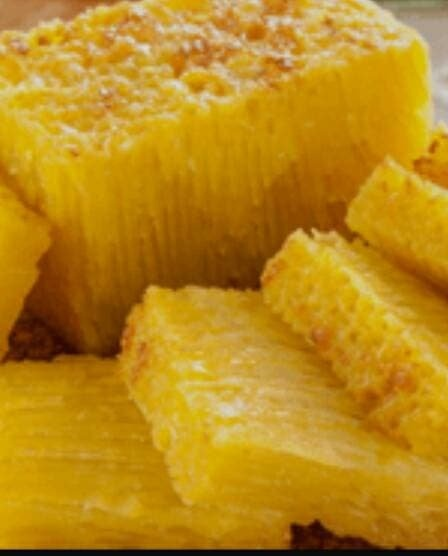bika_ambon: (113, 153, 448, 548), (76, 33, 434, 356)
